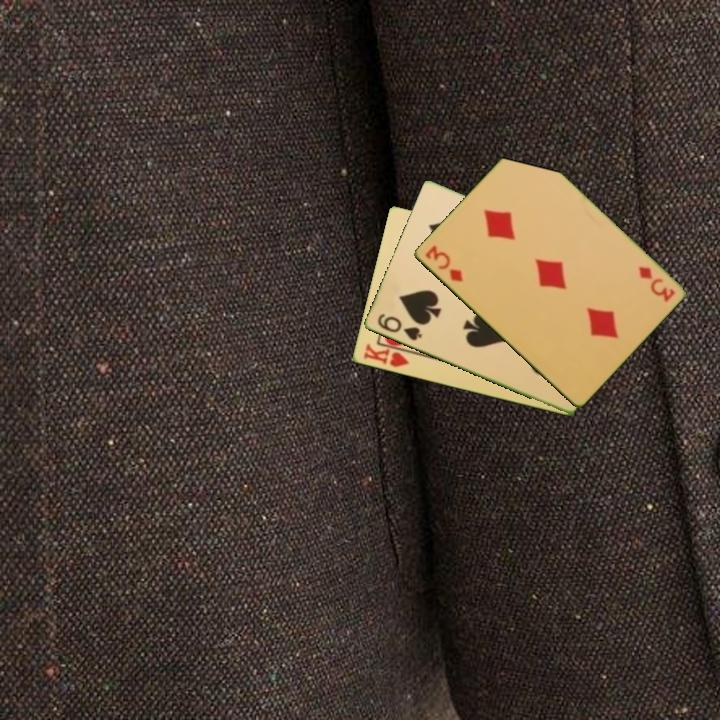3d: (421, 242, 466, 285), (634, 263, 678, 305)
6s: (373, 310, 425, 344)
Kh: (360, 340, 416, 371)
